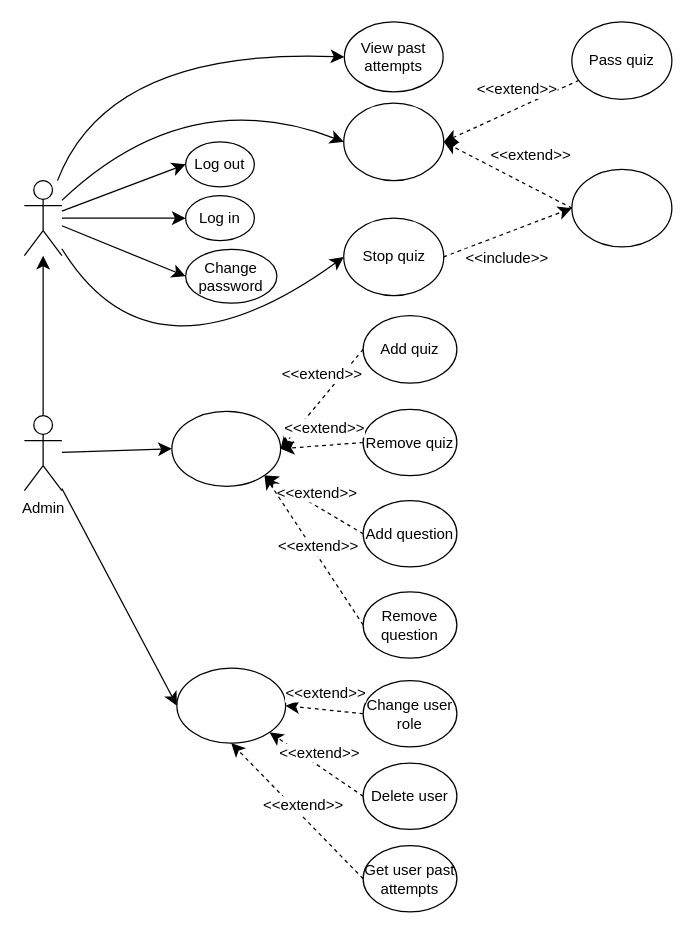
Image size: 694x934. Some labels were removed from this diagram. Here are the shapes that lost their labels. From the top down, the box of each, then its label:
(342, 102, 444, 181): Start quiz
(23, 179, 62, 256): User
(571, 168, 672, 247): Fail quiz
(171, 410, 281, 486): Manage quiz
(176, 667, 286, 743): Manage users
